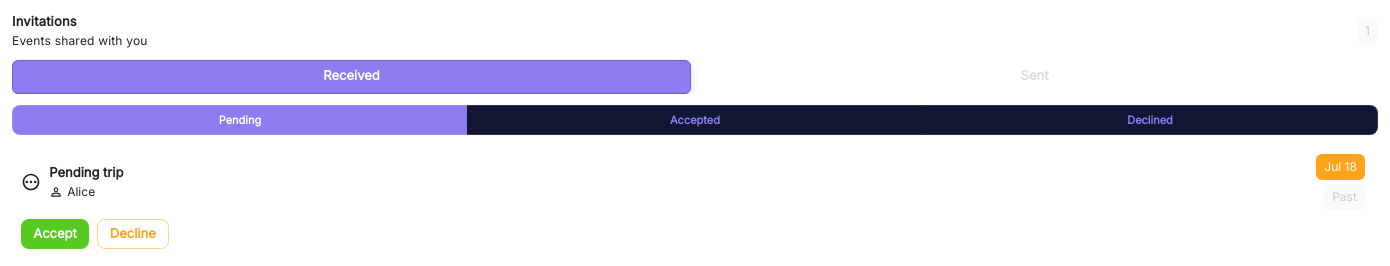
Test: InvitationPanel - Received tab status filter › WhenIncomingInvitationsHaveDifferentStatuses_ShowsPendingByDefaultAndLetsUserSwitchToDeclined
expect the text "Pending trip" is shown: met, box [49,164,124,180]
expect the text "Alice" is shown: met, box [67,183,95,201]
Click the button "Declined": x=1150, y=120 [922,105,1378,135]
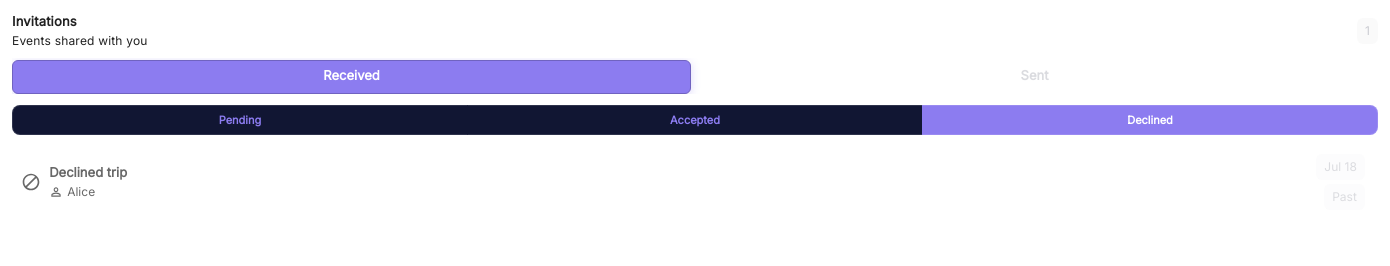
expect the text "Declined trip" is shown: met, box [49,164,127,180]
